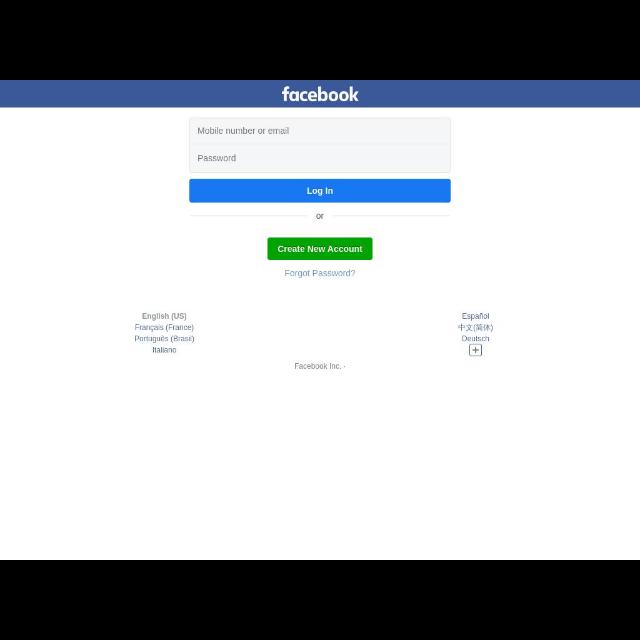icon: (470, 344, 482, 356)
image: (282, 86, 360, 102)
input: (190, 145, 450, 173), (190, 118, 450, 144)
text: (198, 126, 290, 134), (278, 245, 364, 252), (284, 270, 356, 278), (134, 335, 193, 343), (136, 324, 194, 332), (294, 362, 346, 370), (142, 313, 188, 321), (458, 323, 494, 333), (198, 154, 236, 162), (462, 313, 490, 321), (307, 187, 333, 195), (462, 335, 490, 341), (153, 347, 177, 353), (316, 213, 324, 219)
textbutton: (190, 179, 450, 203), (268, 238, 372, 260)
